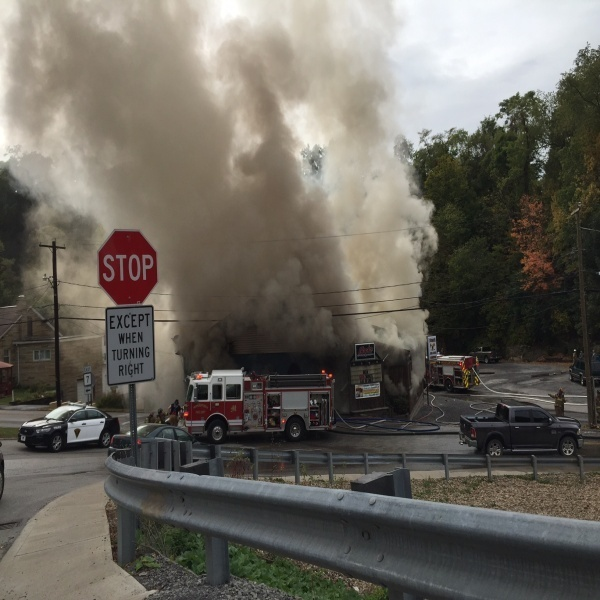stop: (97, 230, 155, 305)
